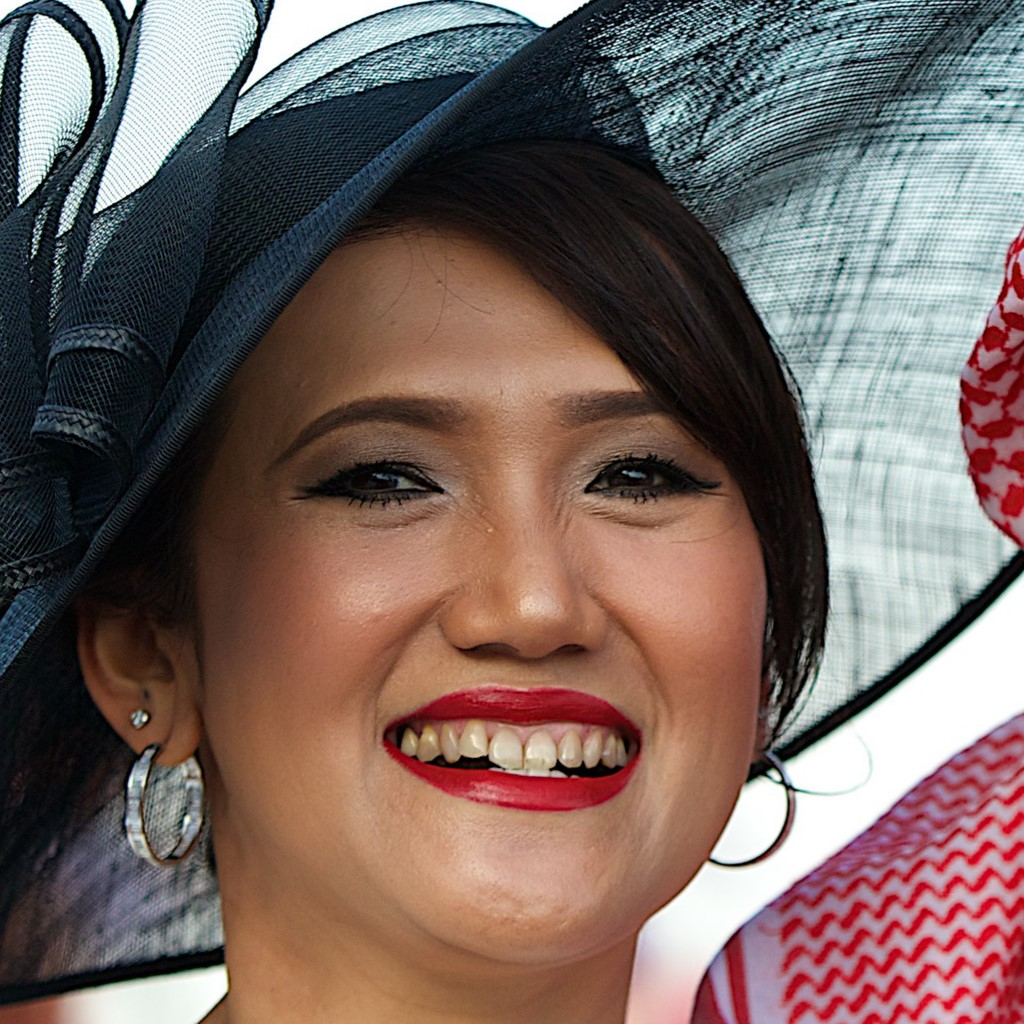sin_mascara: (166, 190, 768, 950)
